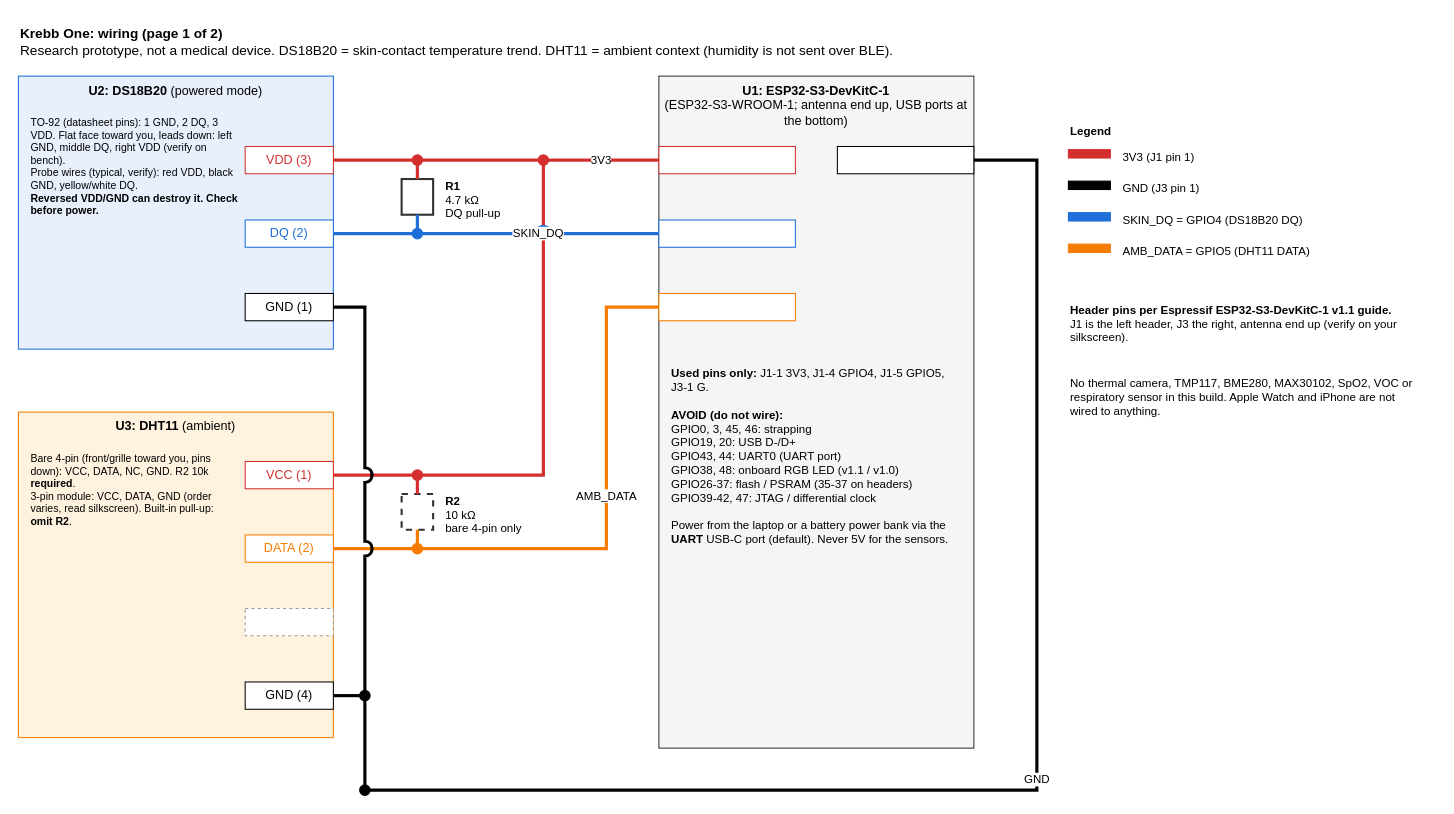
Image size: 1454x814. Some labels were removed from this diagram. The centre of each missing label's shape, as x and y in pixels:
"J1 pin 1: 3V3" belongs at pixel 726 159.
"J1 pin 4: GPIO4" belongs at pixel 726 233.
"J1 pin 5: GPIO5" belongs at pixel 726 306.
"J3 pin 1: G (GND)" belongs at pixel 905 159.
"NC (3)" belongs at pixel 288 621.
